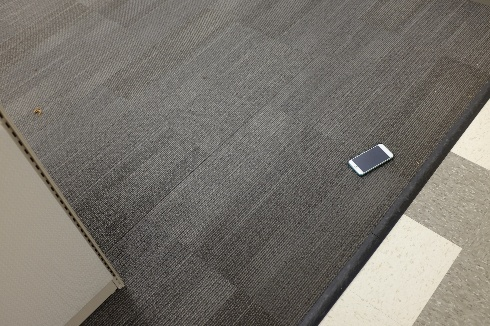phone: (345, 142, 394, 174)
